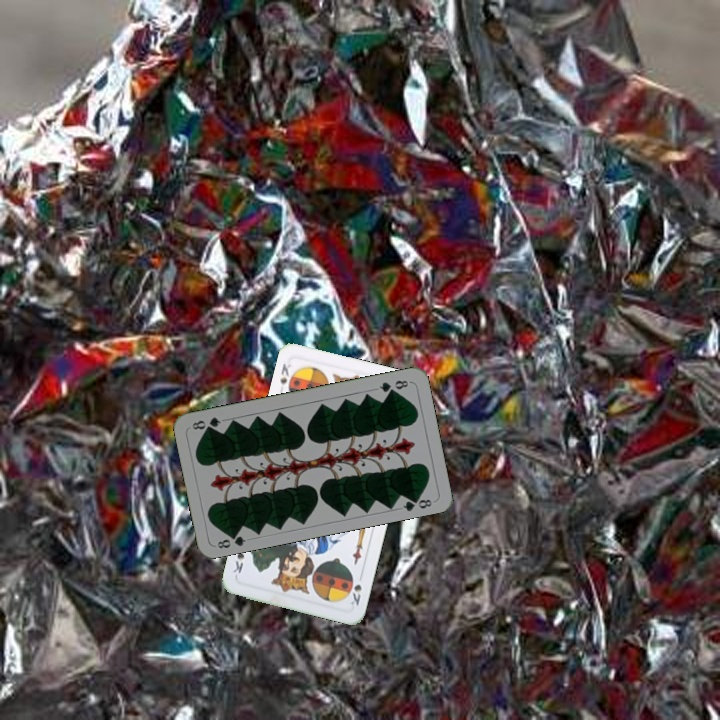G8: (213, 528, 248, 551), (375, 376, 413, 395)
SK: (346, 580, 364, 608), (276, 359, 294, 387)
